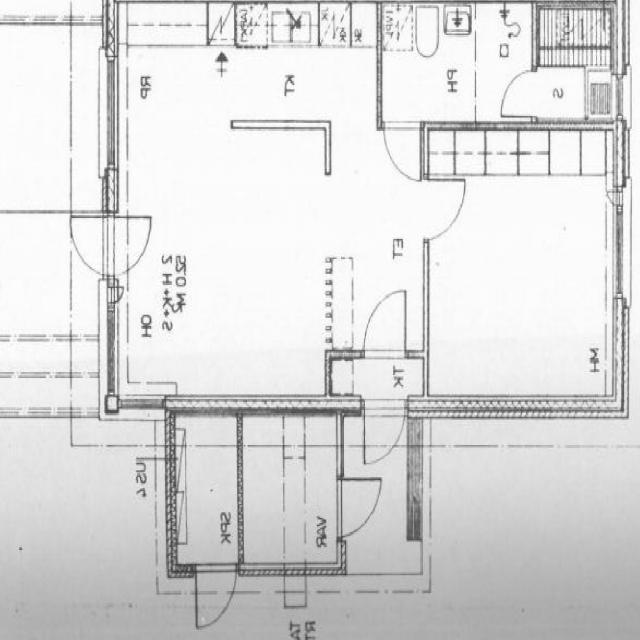door: (62, 217, 118, 276), (102, 217, 158, 276), (364, 399, 406, 475), (423, 178, 471, 239), (364, 290, 405, 358), (196, 564, 237, 630), (338, 478, 382, 538), (384, 120, 421, 184), (500, 71, 537, 117)
